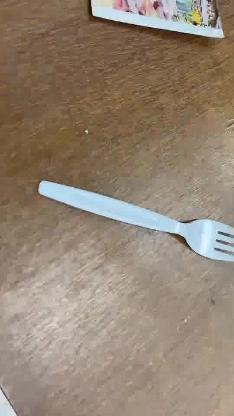Others: (36, 180, 234, 262)
